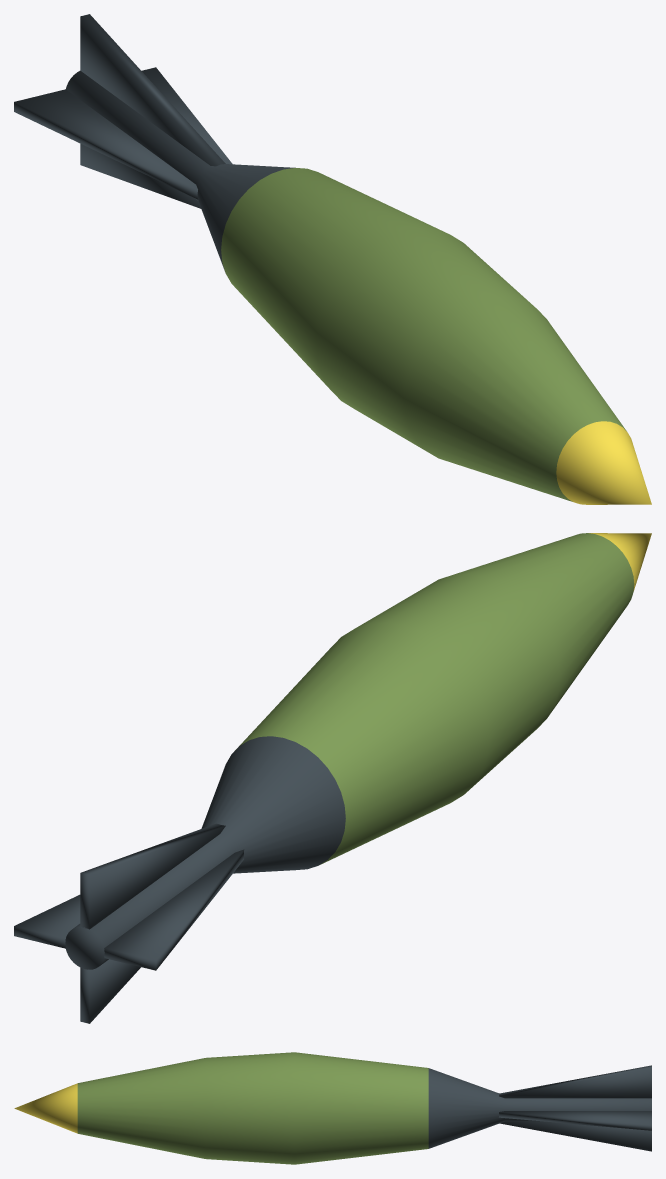
Rendered from mortar_120_projectile_display.glb.
3 renders of one model, top to bottom at view 1: azimuth 30°, elevation 25°; view 2: azimuth 150°, elevation 25°; view 3: azimuth 270°, elevation 25°, orthographic. The views are drawn at different scales.
Visible parts, largest first — view 1: AMMO_MESH.035; view 2: AMMO_MESH.035; view 3: AMMO_MESH.035.
Part boxes in pixels (box(x1,y1,x2,y2)): AMMO_MESH.035: box(14, 14, 651, 504); AMMO_MESH.035: box(14, 533, 651, 1023); AMMO_MESH.035: box(14, 1052, 651, 1164).
Size of the model in its own units: 0.12 by 0.12 by 0.68.
